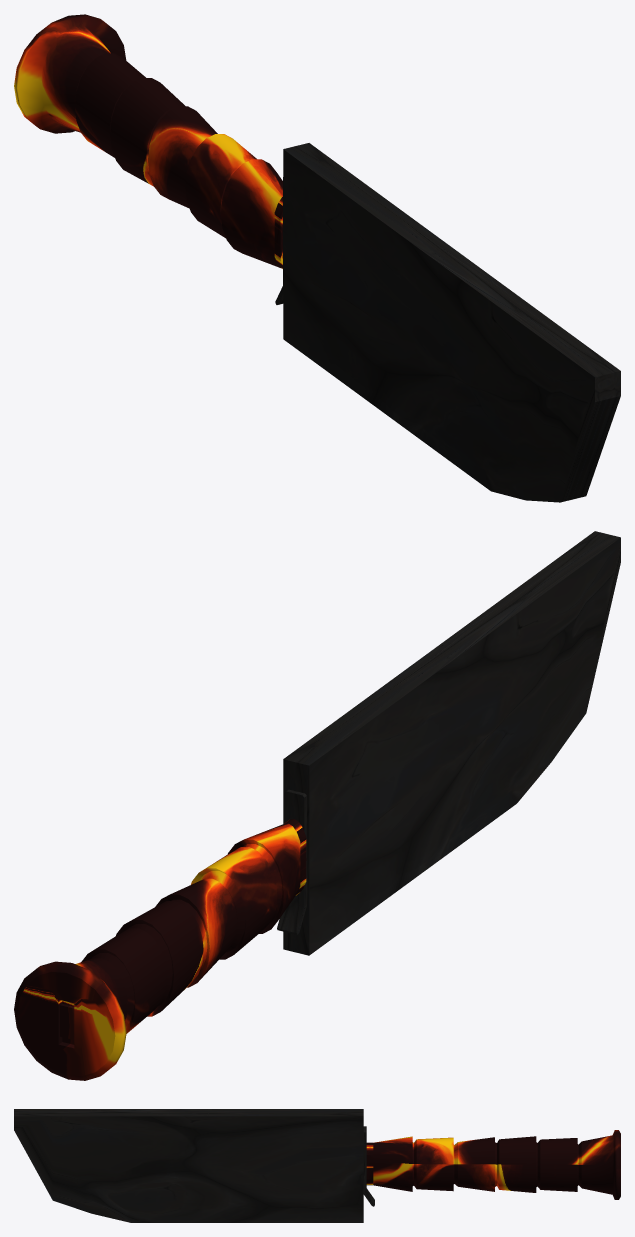
File: knife.fbx
3 renders of one model, top to bottom at view 1: azimuth 30°, elevation 25°; view 2: azimuth 150°, elevation 25°; view 3: azimuth 270°, elevation 25°, orthographic. The views are drawn at different scales.
Parts seen in each view (by area): view 1: pCube3; view 2: pCube3; view 3: pCube3.
Part boxes in pixels (box(x1,y1,x2,y2)): pCube3: box(14, 14, 620, 502); pCube3: box(14, 531, 620, 1080); pCube3: box(14, 1109, 620, 1222).
Size of the model in its own units: 0.3042 by 0.5075 by 2.62.
Materials: 2 (2 with a texture image).
